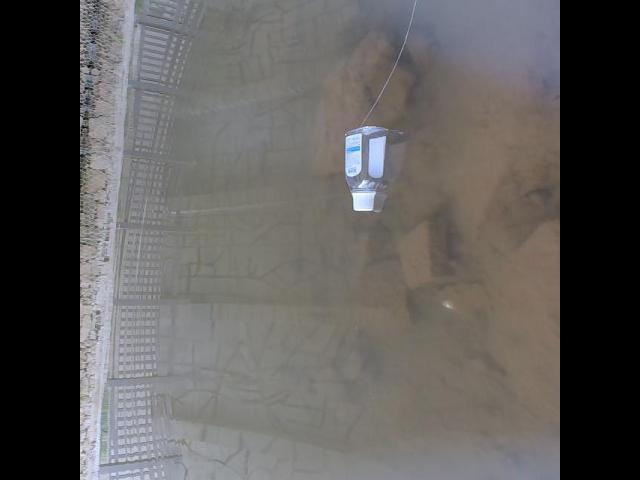Bottle: (342, 121, 392, 213)
